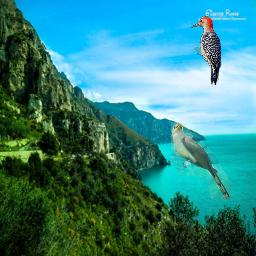Cuckoo: (171, 122, 231, 200)
Woodpecker: (191, 16, 222, 85)
